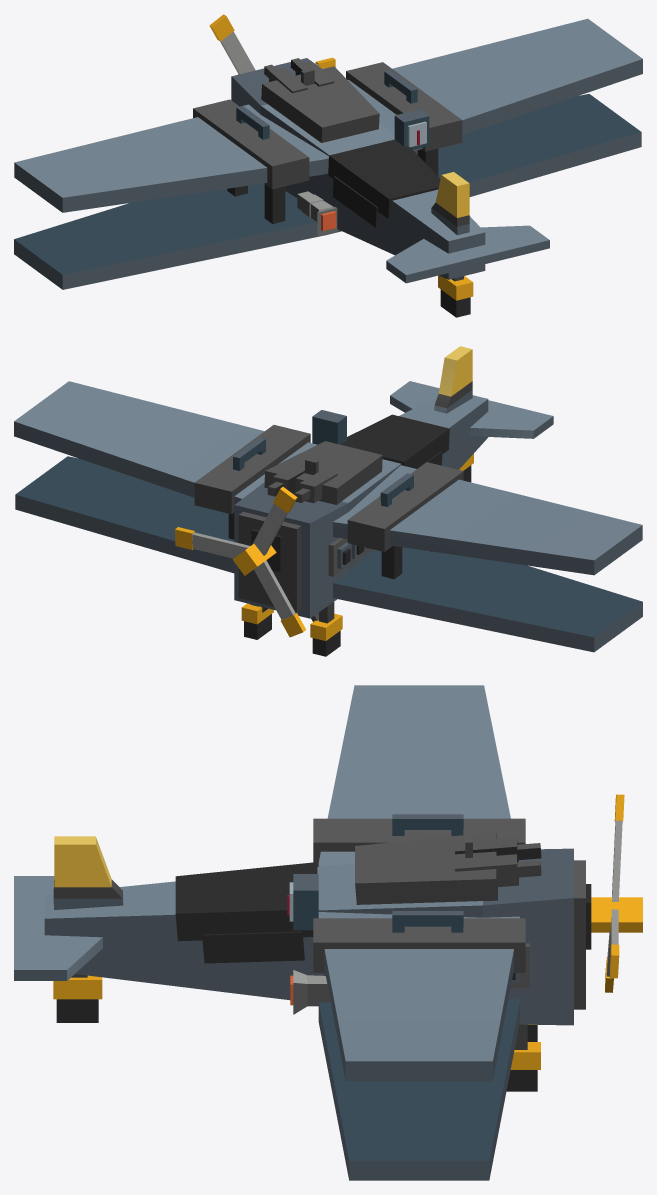
3 renders of one model, top to bottom at view 1: azimuth 30°, elevation 25°; view 2: azimuth 150°, elevation 25°; view 3: azimuth 270°, elevation 25°, orthographic. The views are drawn at different scales.
Parts seen in each view (by area): view 1: pCube170, pCube172, pCube165, pCube177, pCube168, pCube209, pCube208, pCube207, pCube169, pCube216, pCube182, pCube201 (+6 smaller); view 2: pCube170, pCube172, pCube165, pCube208, pCube207, pCube168, pCube177, pCube209, pCube166, pCube169, pCube182, pCube200 (+11 smaller); view 3: pCube170, pCube165, pCube172, pCube177, pCube168, pCube207, pCube209, pCube208, pCube169, pCube171, pCube182, pCube216 (+8 smaller).
Part boxes in pixels (<box>): pCube170: <box>14,18,642,212</box>; pCube172: <box>14,94,641,289</box>; pCube165: <box>231,58,485,279</box>; pCube177: <box>261,66,379,142</box>; pCube168: <box>328,139,440,218</box>; pCube209: <box>386,225,549,283</box>; pCube208: <box>193,99,309,189</box>; pCube207: <box>346,62,462,151</box>; pCube169: <box>431,172,469,235</box>; pCube216: <box>438,275,473,317</box>; pCube182: <box>264,58,334,93</box>; pCube201: <box>209,14,255,74</box>; pCube170: <box>14,381,642,575</box>; pCube172: <box>15,456,642,652</box>; pCube165: <box>234,395,488,618</box>; pCube208: <box>347,462,463,551</box>; pCube207: <box>194,425,310,514</box>; pCube168: <box>341,414,449,468</box>; pCube177: <box>264,441,382,504</box>; pCube209: <box>390,381,553,438</box>; pCube166: <box>238,511,301,612</box>; pCube169: <box>434,346,472,413</box>; pCube182: <box>267,463,337,503</box>; pCube200: <box>254,560,305,637</box>; pCube170: <box>318,685,519,1081</box>; pCube165: <box>44,848,573,1025</box>; pCube172: <box>318,998,519,1180</box>; pCube177: <box>355,832,497,904</box>; pCube168: <box>175,862,317,941</box>; pCube207: <box>313,918,525,972</box>; pCube209: <box>14,876,102,980</box>; pCube208: <box>313,818,525,866</box>; pCube169: <box>53,836,123,909</box>; pCube171: <box>202,931,304,963</box>; pCube182: <box>455,837,541,886</box>; pCube216: <box>53,974,102,1022</box>.
Size of the model in its own units: 6.83 by 2.13 by 4.82.
1 material, 1 textured.
